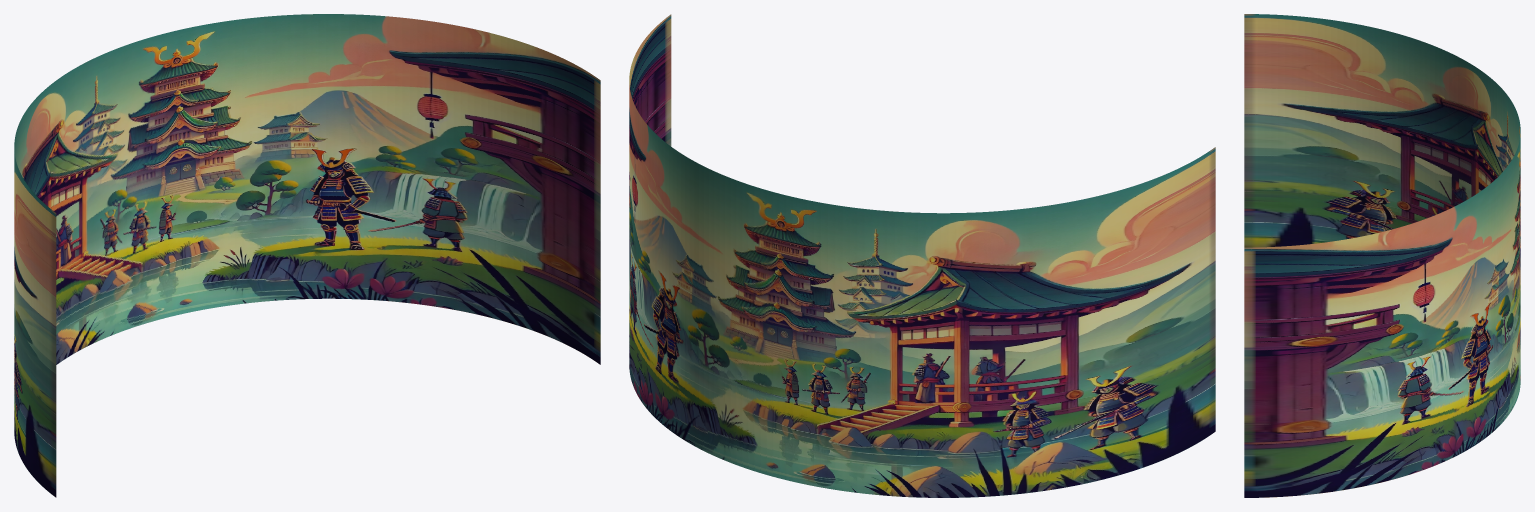
The model's file is Background_fbx_common_textured.fbx.
3 renders of one model, left to right at view 1: azimuth 30°, elevation 25°; view 2: azimuth 150°, elevation 25°; view 3: azimuth 270°, elevation 25°, orthographic. The views are drawn at different scales.
Visible parts, largest first — view 1: Obj; view 2: Obj; view 3: Obj.
Boxes of the visible parts, x1,y1,x2,y2 form: Obj: (14, 14, 600, 497); Obj: (629, 14, 1215, 497); Obj: (1244, 14, 1520, 497).
Size of the model in its own units: 200 by 100 by 100.
1 material, 1 textured.
